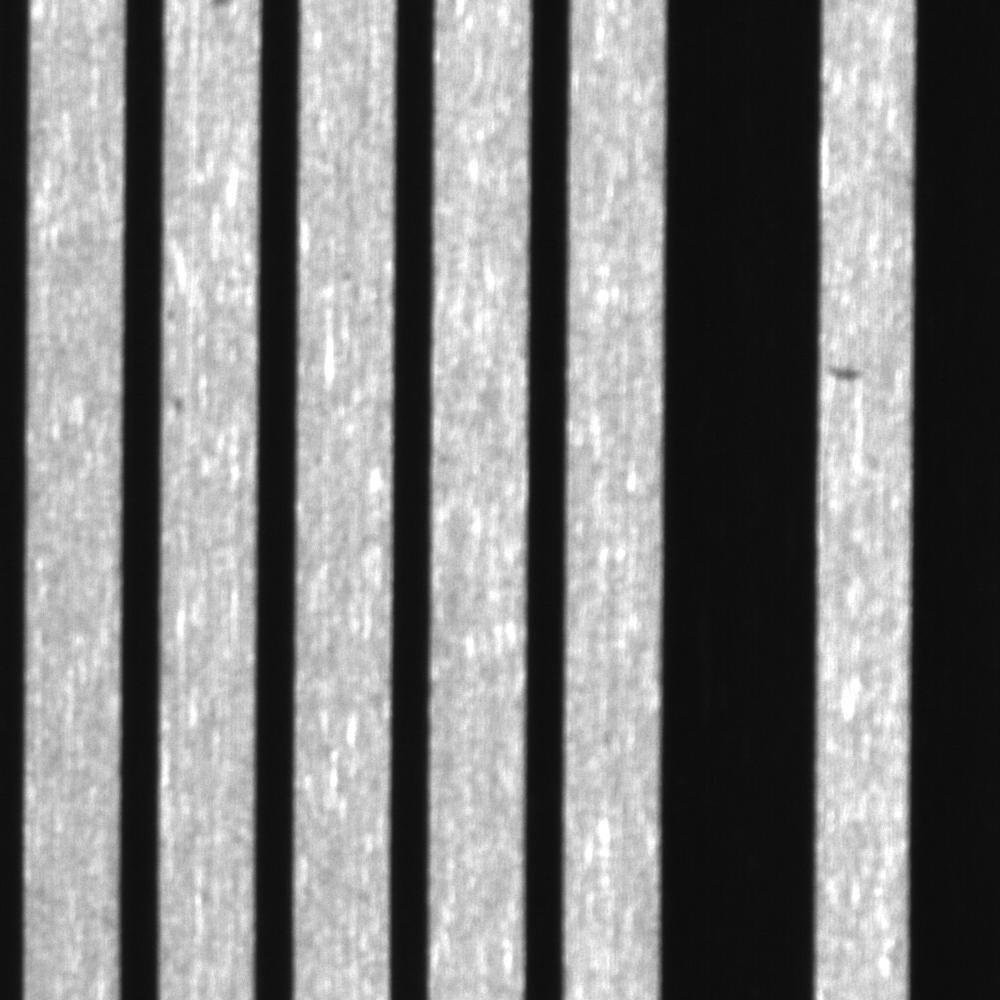Etching: (825, 339, 890, 403), (167, 382, 195, 427)
